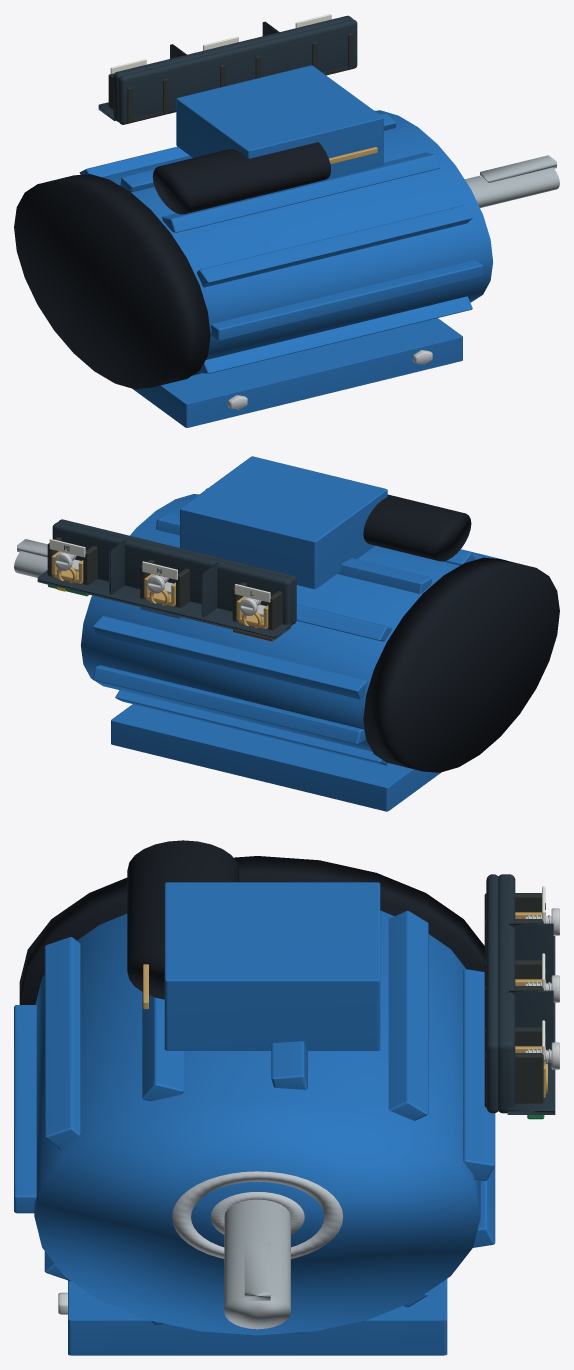
The model's file is motor_motor.glb.
3 renders of one model, top to bottom at view 1: azimuth 30°, elevation 25°; view 2: azimuth 150°, elevation 25°; view 3: azimuth 270°, elevation 25°, orthographic. The views are drawn at different scales.
Visible parts, largest first — view 1: part:body · Original 7cfa2338, part:body, part:terminals · Original a463fd81, part:body.001, motion:rotor · Original 2a8198d3, detail:terminal-clamp:L · Detail moulded engineering polymer; view 2: part:body · Original 7cfa2338, part:body, part:terminals · Original a463fd81, part:body.001, motion:rotor · Original 2a8198d3, detail:terminal-clamp:L · Detail moulded engineering polymer, detail:terminal-clamp:PE · Detail moulded engineering polyme, detail:terminal-clamp:N · Detail moulded engineering polymer, detail:terminal-clamp:L · Detail machined brass, detail:terminal-clamp:PE · Detail machined brass, detail:terminal-clamp:N · Detail machined brass; view 3: part:body · Original 7cfa2338, part:terminals · Original a463fd81, part:body, motion:rotor · Original 2a8198d3, part:body.001, detail:motor-bearing · Detail brushed stainless steel, detail:terminal-clamp:PE · Detail moulded engineering polyme, detail:terminal-clamp:L · Detail moulded engineering polymer, detail:terminal-clamp:N · Detail moulded engineering polymer.
Boxes of the visible parts, x1,y1,x2,y2 form: part:body · Original 7cfa2338: (79, 65, 492, 427); part:body: (14, 174, 210, 389); part:terminals · Original a463fd81: (98, 15, 357, 124); part:body.001: (152, 142, 330, 214); motion:rotor · Original 2a8198d3: (465, 155, 559, 207); detail:terminal-clamp:L · Detail moulded engineering polymer: (108, 73, 168, 123); part:body · Original 7cfa2338: (80, 456, 506, 811); part:body: (363, 557, 559, 772); part:terminals · Original a463fd81: (37, 519, 296, 639); part:body.001: (363, 494, 471, 561); motion:rotor · Original 2a8198d3: (14, 539, 47, 577); detail:terminal-clamp:L · Detail moulded engineering polymer: (232, 582, 282, 630); detail:terminal-clamp:PE · Detail moulded engineering polyme: (47, 537, 97, 585); detail:terminal-clamp:N · Detail moulded engineering polymer: (140, 559, 189, 608); detail:terminal-clamp:L · Detail machined brass: (236, 596, 268, 629); detail:terminal-clamp:PE · Detail machined brass: (51, 551, 83, 583); detail:terminal-clamp:N · Detail machined brass: (144, 574, 175, 606); part:body · Original 7cfa2338: (14, 882, 495, 1355); part:terminals · Original a463fd81: (486, 874, 555, 1114); part:body: (19, 856, 484, 1004); motion:rotor · Original 2a8198d3: (224, 1199, 290, 1329); part:body.001: (127, 840, 238, 999); detail:motor-bearing · Detail brushed stainless steel: (172, 1171, 342, 1258); detail:terminal-clamp:PE · Detail moulded engineering polyme: (484, 1027, 544, 1107); detail:terminal-clamp:L · Detail moulded engineering polymer: (484, 893, 543, 961); detail:terminal-clamp:N · Detail moulded engineering polymer: (484, 960, 543, 1028).
Bounding box in the file's own units: 1.49 × 0.7159 × 1.04.
